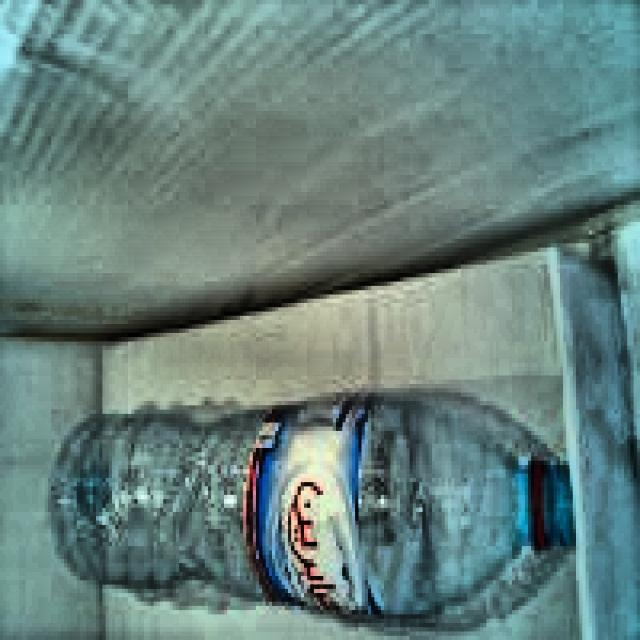plastic bottle: (54, 397, 574, 617)
